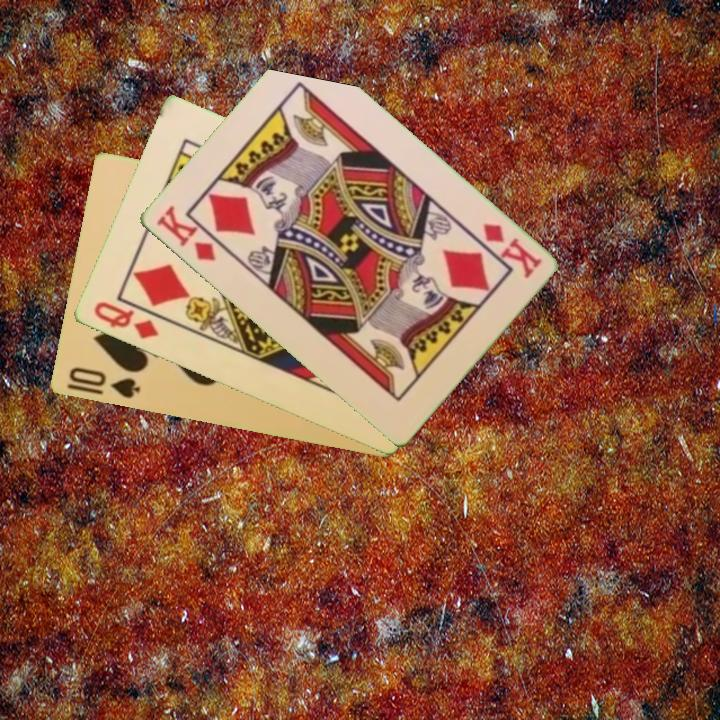10s: (65, 364, 143, 402)
Kd: (478, 219, 545, 282), (152, 202, 219, 264)
Qd: (90, 298, 161, 343)
